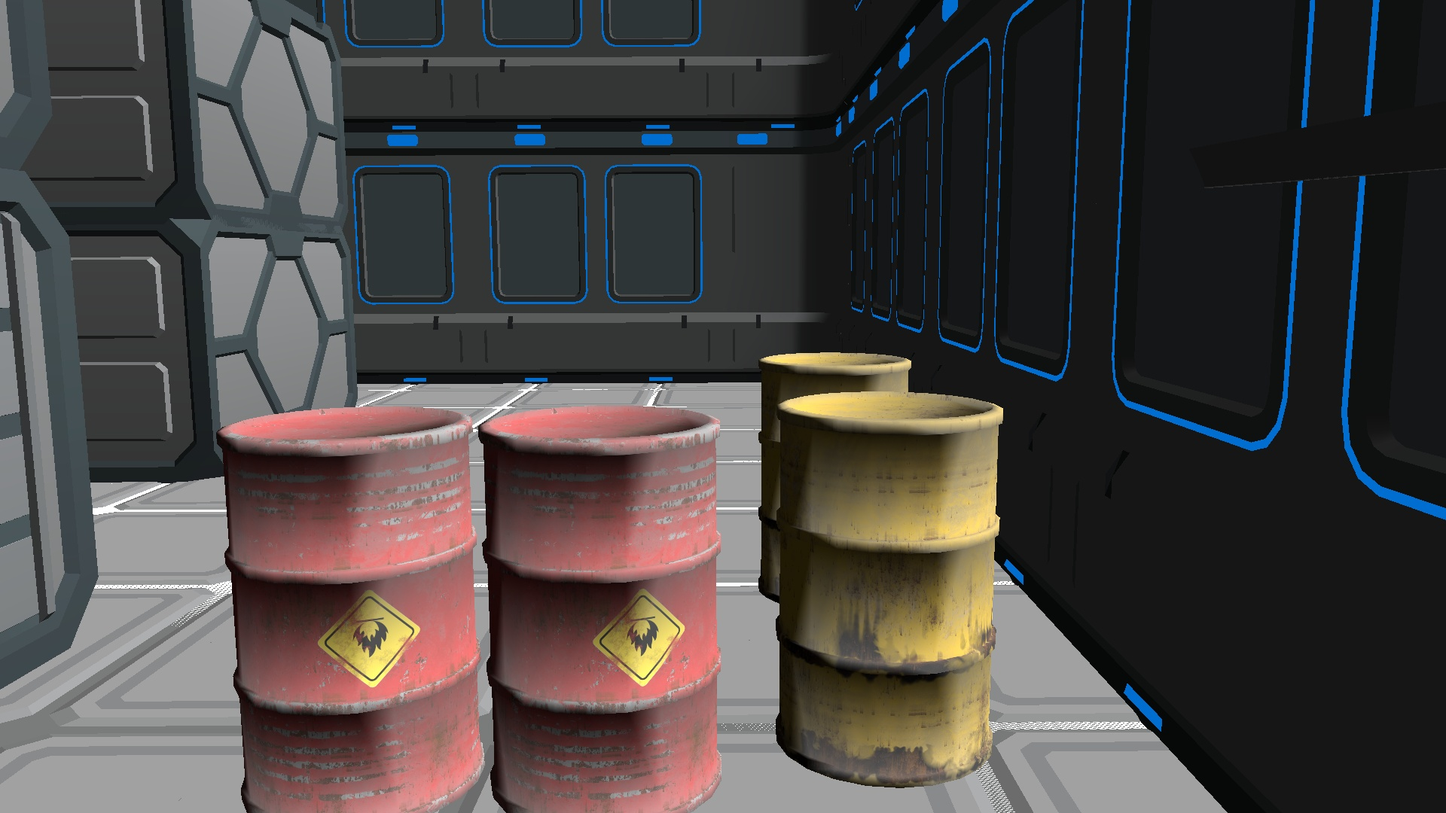toxic barrel: (217, 404, 485, 813), (478, 402, 725, 813), (776, 392, 1004, 788), (757, 353, 912, 603)
